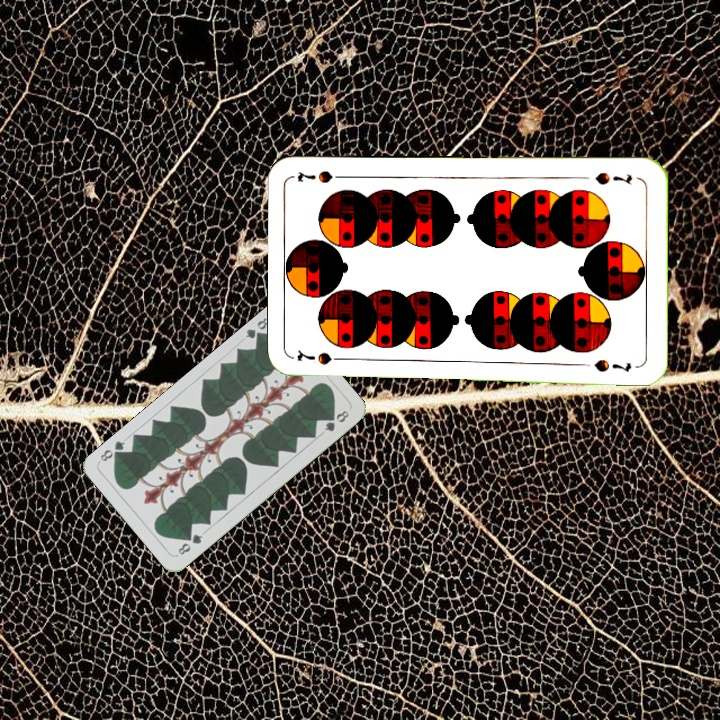G8: (241, 313, 272, 344), (174, 530, 205, 558)
S7: (293, 349, 351, 367), (591, 168, 635, 187)
